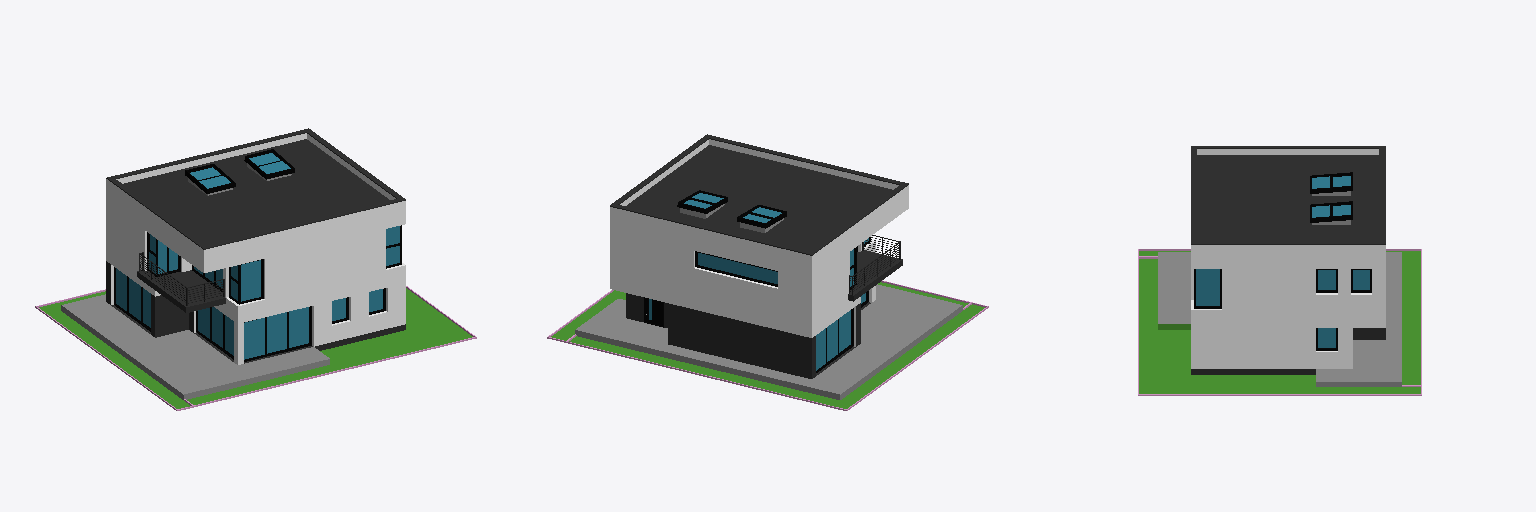
File: house.obj
The picture shows the model from 3 angles: view 1: azimuth 30°, elevation 25°; view 2: azimuth 150°, elevation 25°; view 3: azimuth 270°, elevation 25°; orthographic projection.
Visible parts, largest first — view 1: MH01_OBJ04; view 2: MH01_OBJ04; view 3: MH01_OBJ04.
Part boxes in pixels (bbox=[...]): MH01_OBJ04: bbox=[35, 128, 476, 410]; MH01_OBJ04: bbox=[547, 134, 988, 410]; MH01_OBJ04: bbox=[1138, 146, 1421, 395].
Size of the model in its own units: 1.88 by 0.8045 by 1.54.